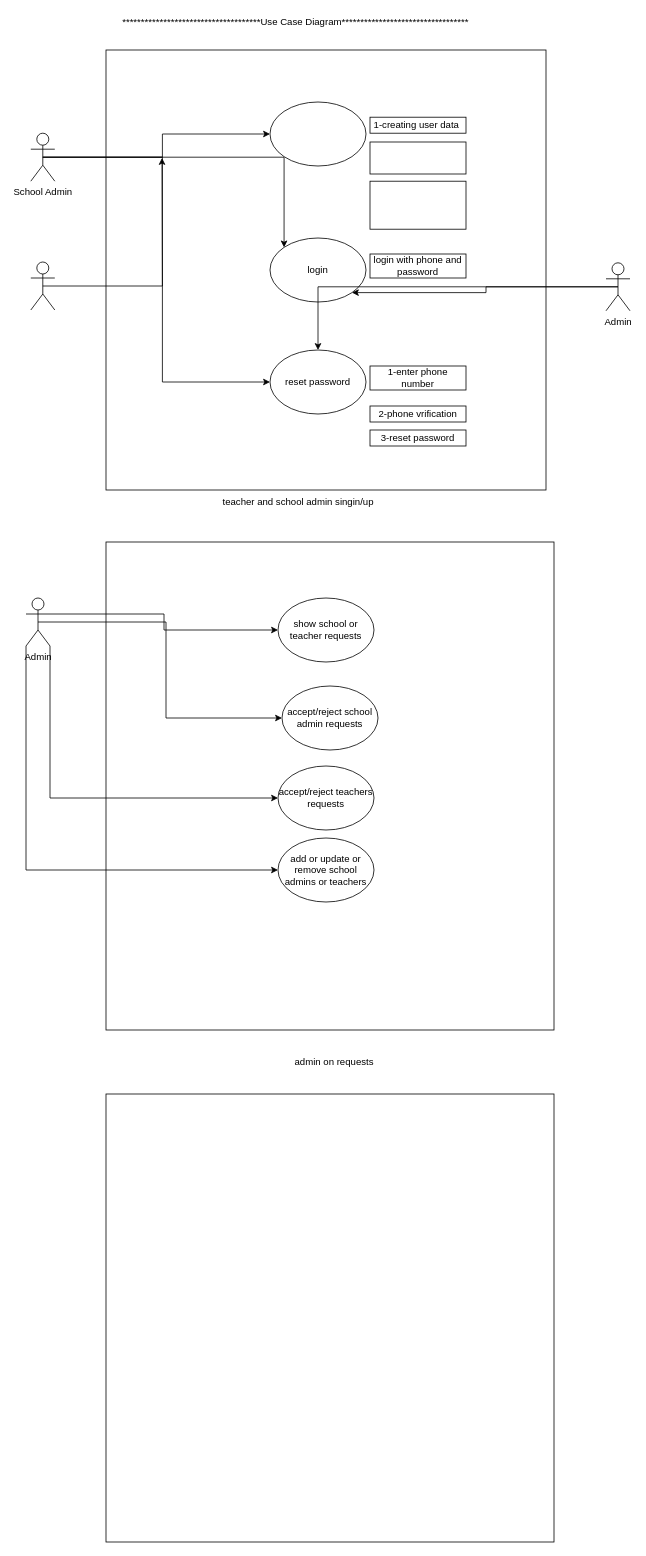
Image size: 646x1556. Some labels were removed from this diagram. Here are the shapes that lost their labels. From the top down, the box of each, then its label:
(269, 101, 366, 166): register
(369, 141, 466, 174): 2-creating phone verification
(369, 180, 466, 229): 3-completing school data or profile
(30, 261, 55, 310): Teacher
